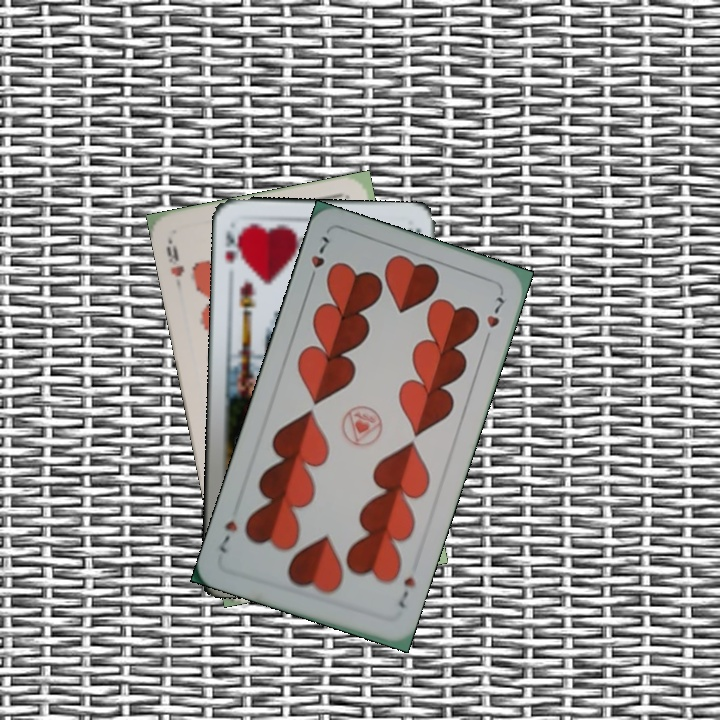H7: (304, 232, 332, 287), (394, 572, 418, 611)
H9: (162, 235, 187, 279)
HK: (221, 224, 247, 266)
